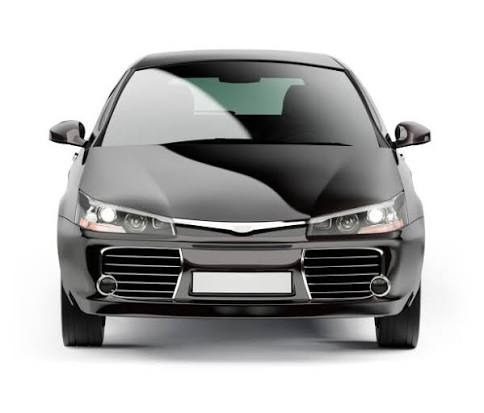car: (48, 54, 426, 337)
